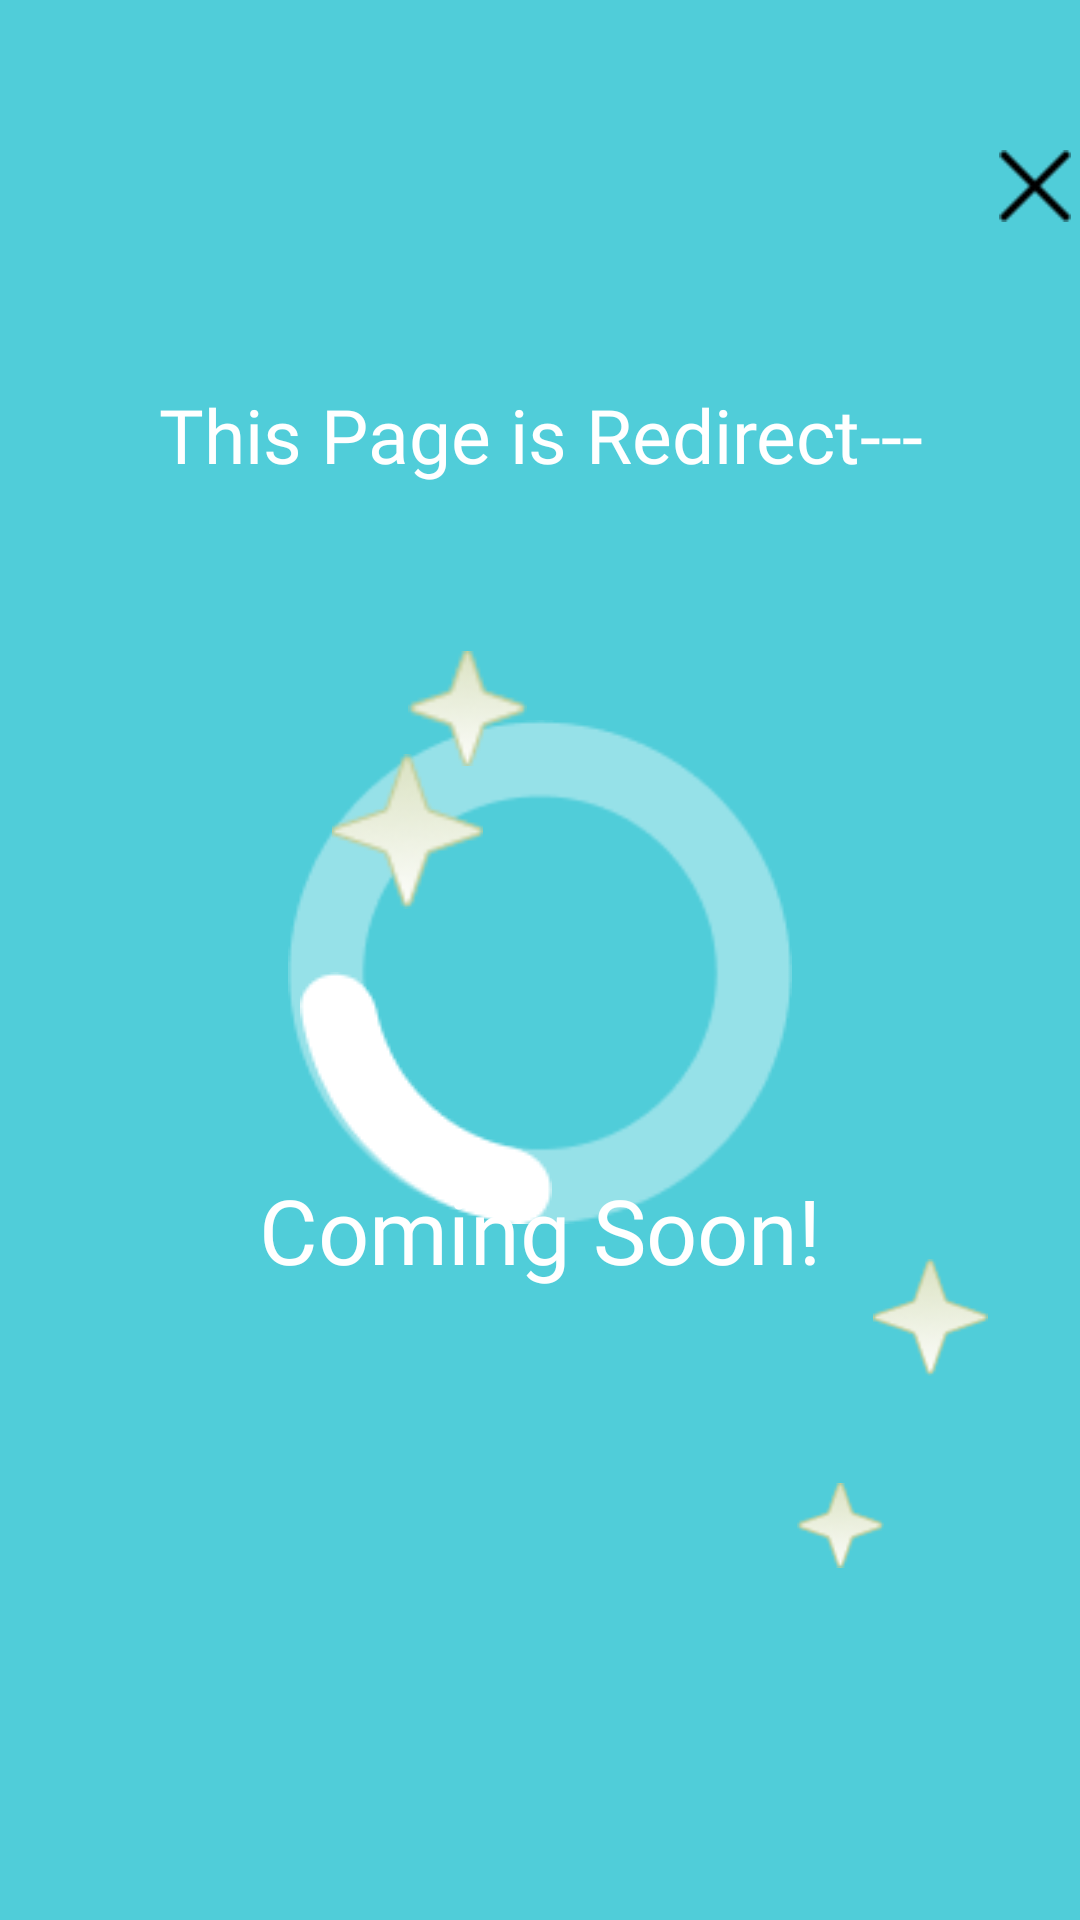

Screen size 1080×1920. Icon name, then its box in pixels as (x1, y1, x2, y2):
right cross: (999, 150, 1071, 222)
